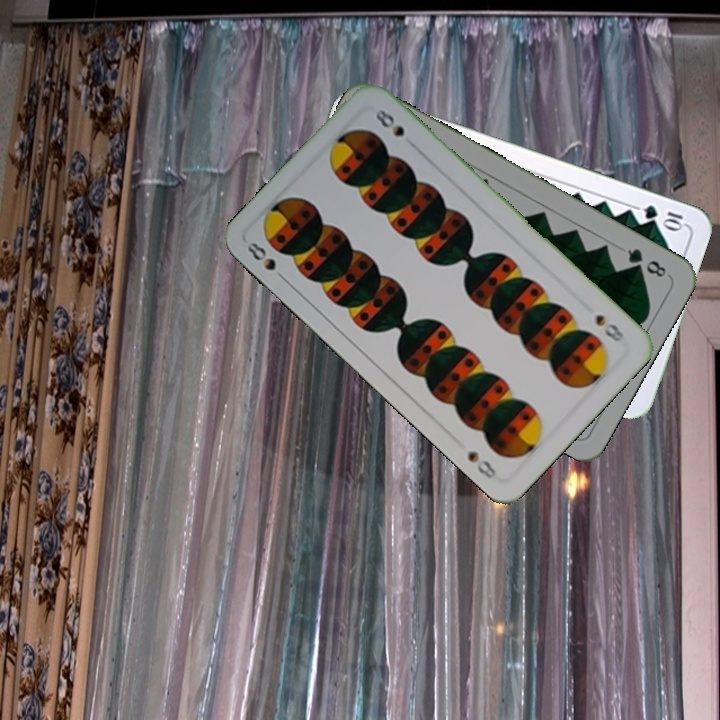G10: (639, 200, 688, 232)
G8: (623, 244, 669, 280)
S8: (243, 237, 290, 285), (591, 310, 627, 345)
